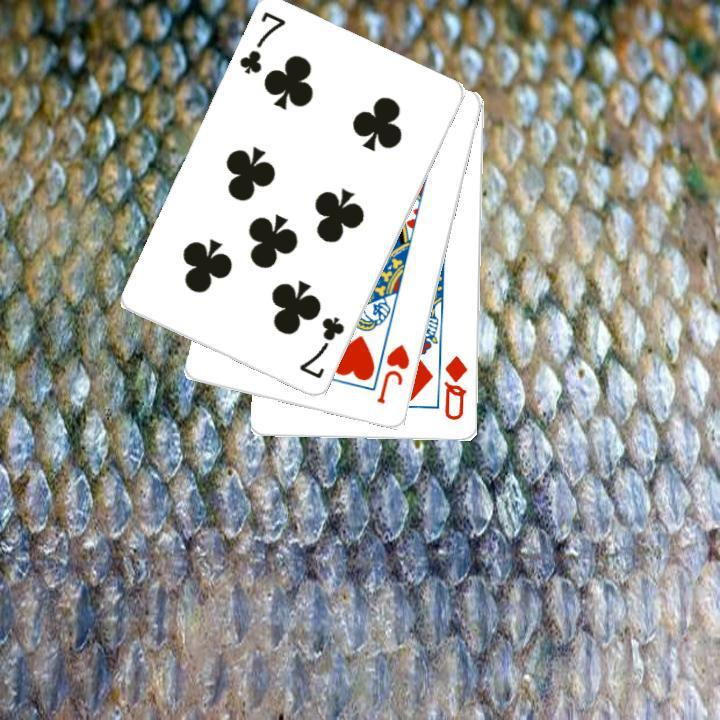7: (235, 7, 288, 77), (295, 312, 347, 381)
J: (373, 340, 412, 406)
Q: (440, 351, 470, 423)
